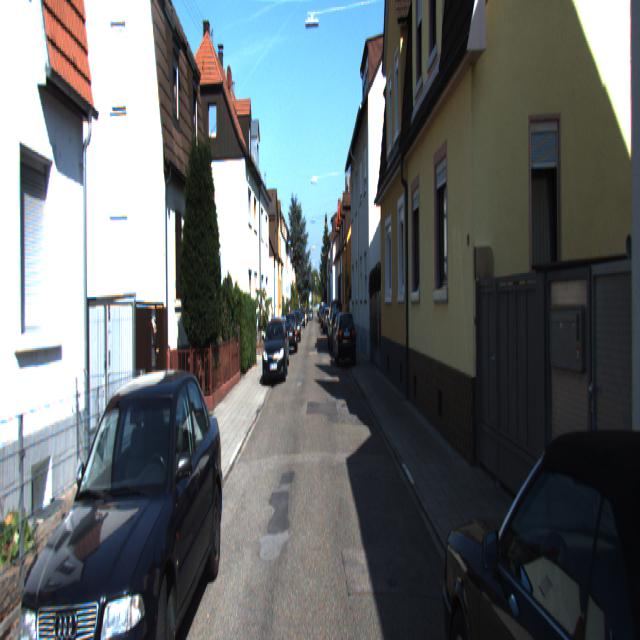Car: (9, 366, 225, 638), (442, 364, 640, 638), (264, 317, 288, 386), (335, 312, 357, 371), (285, 312, 298, 355)
